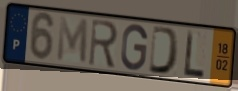6: (28, 10, 58, 64)
D: (147, 24, 181, 77)
G: (119, 23, 149, 73)
L: (183, 28, 206, 79)
M: (55, 15, 89, 67)
R: (87, 17, 120, 70)
